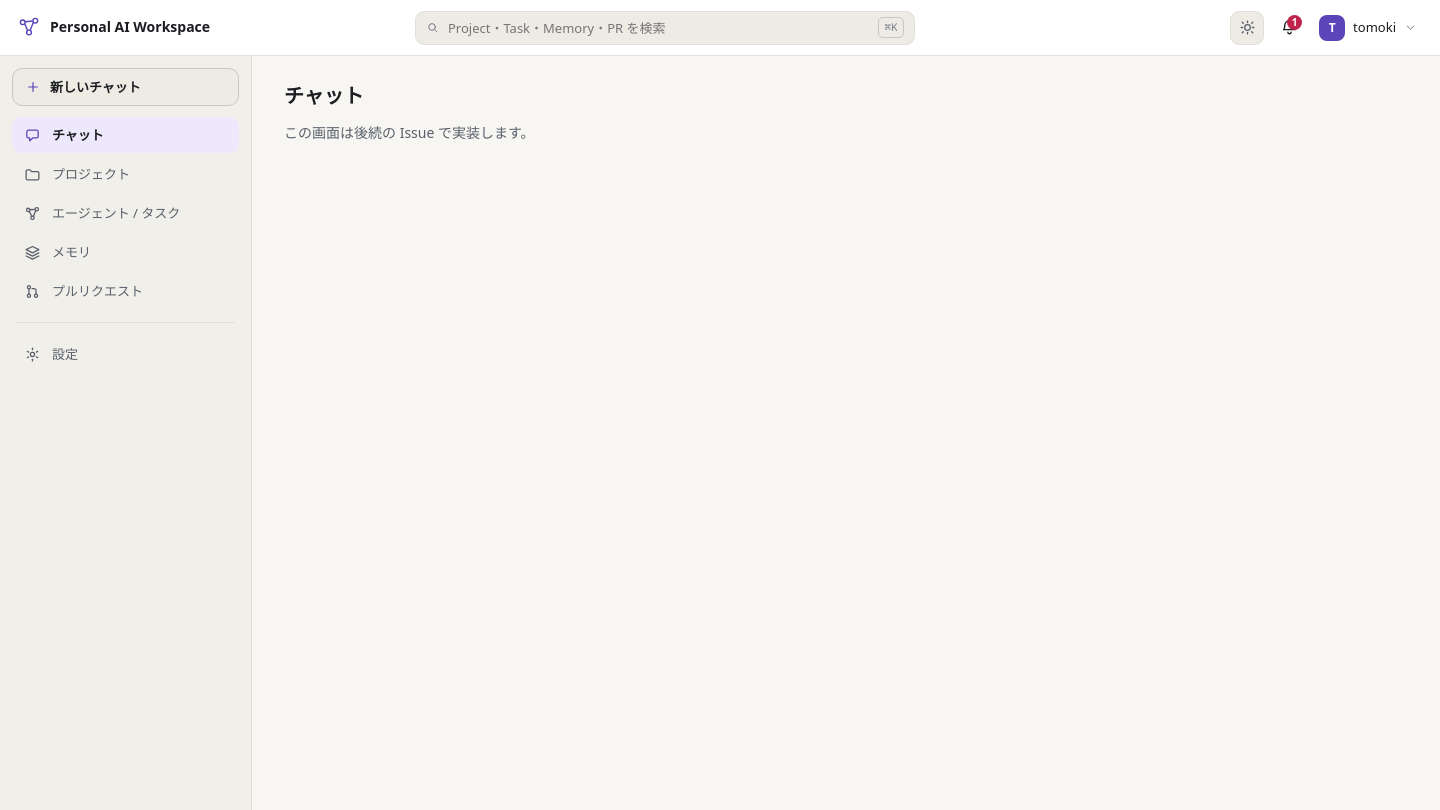
Scenario: pending device approvals as notifications › removes a notification resolved while the settings screen was open
Click the button named "通知 1 件未読" at (1289,28), box 1272,10 -> 1306,44
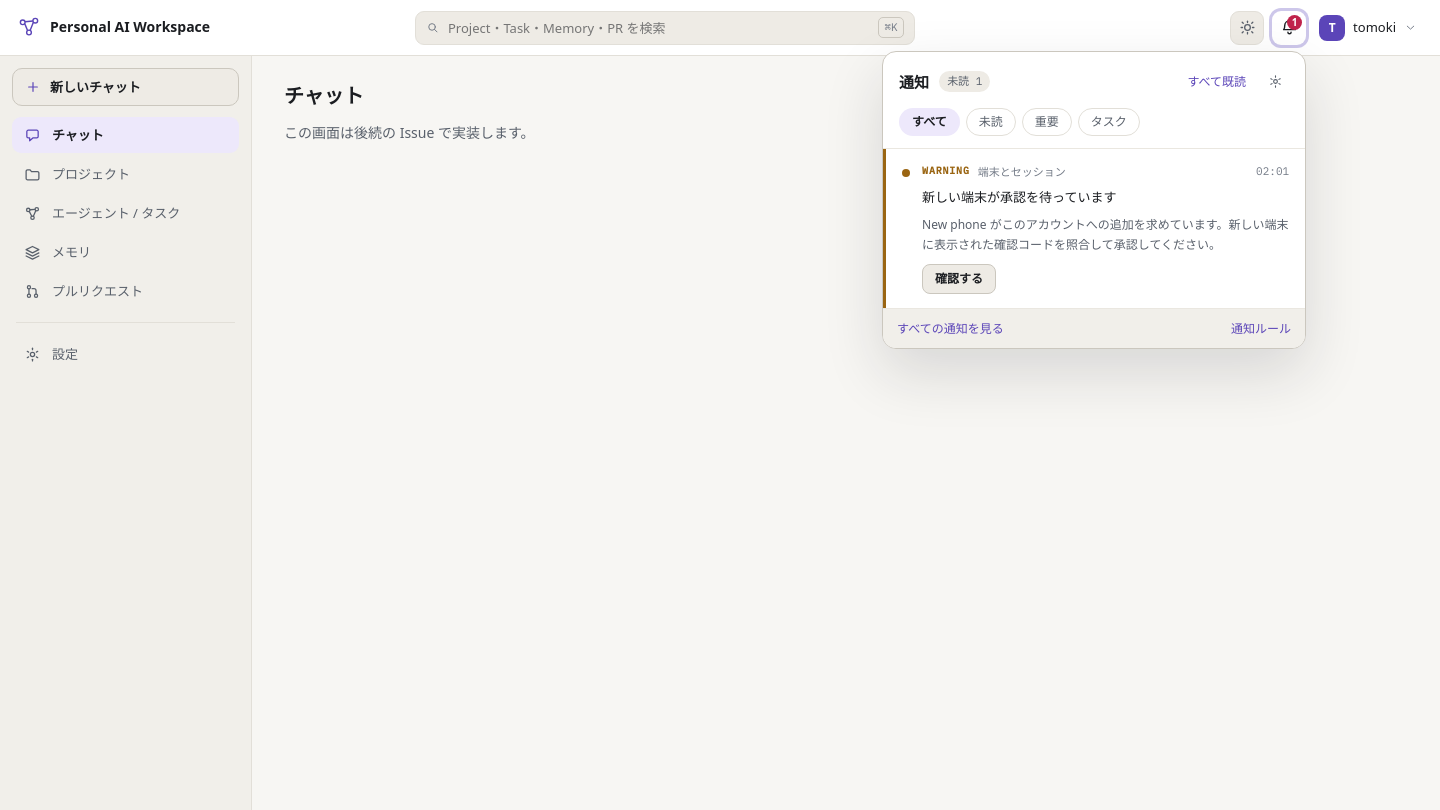
Click the link "確認する" at (959,279), box 922,264 -> 996,294
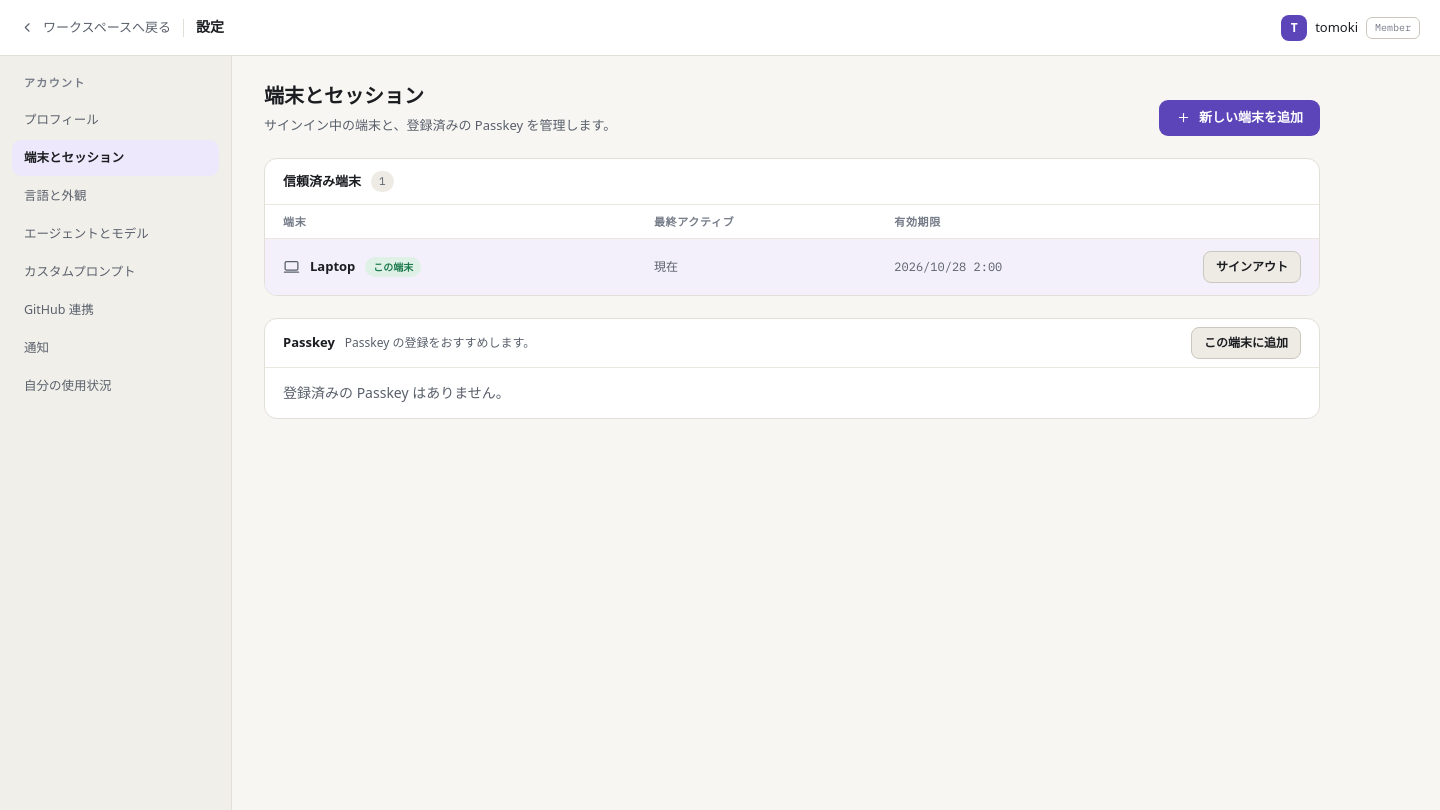
Note: 設定 is a screen of its own (no shell): the device is approved there.
Click the link "ワークスペースへ戻る" at (96,27), box 20,18 -> 171,36
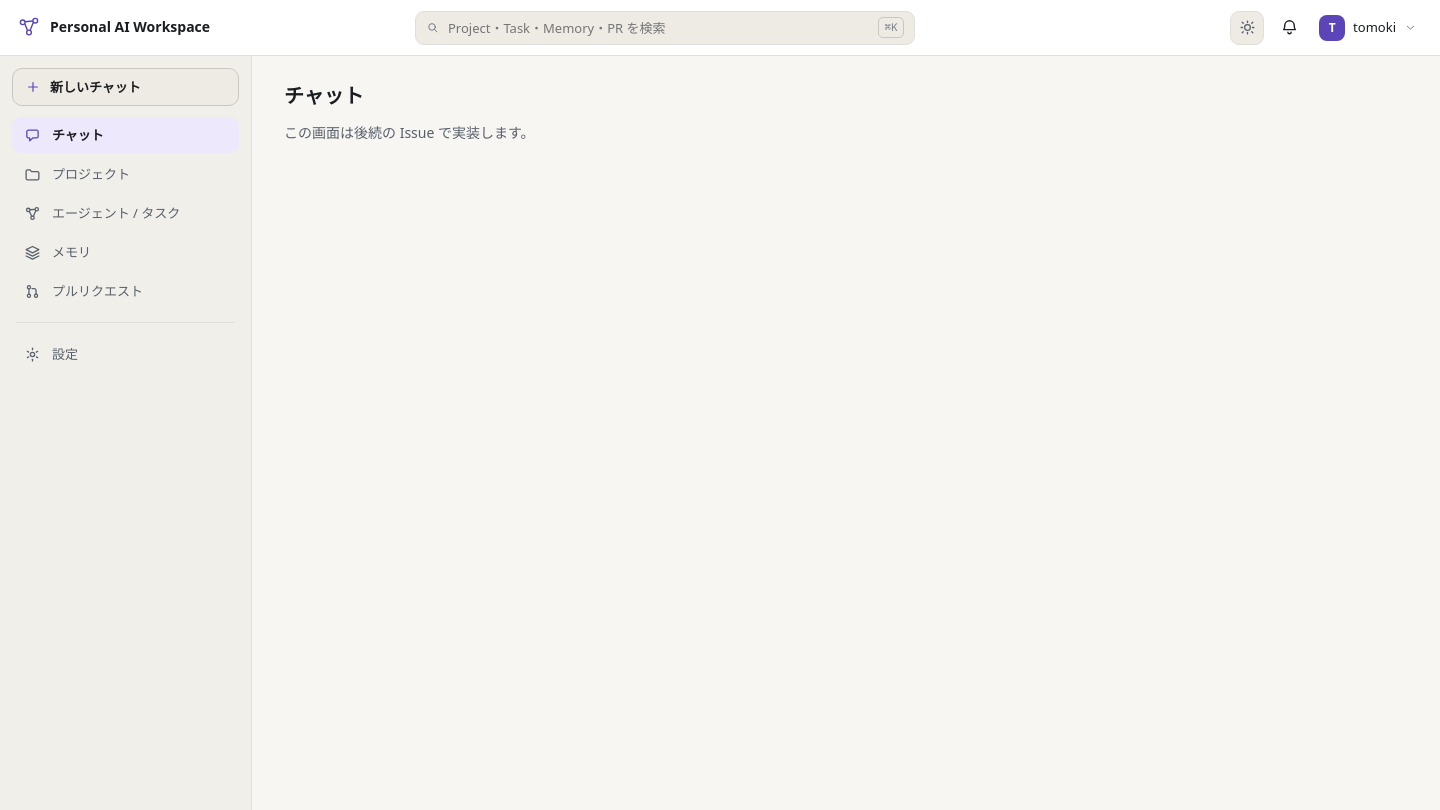
Click the button named "通知" at (1289,28), box 1272,10 -> 1306,44
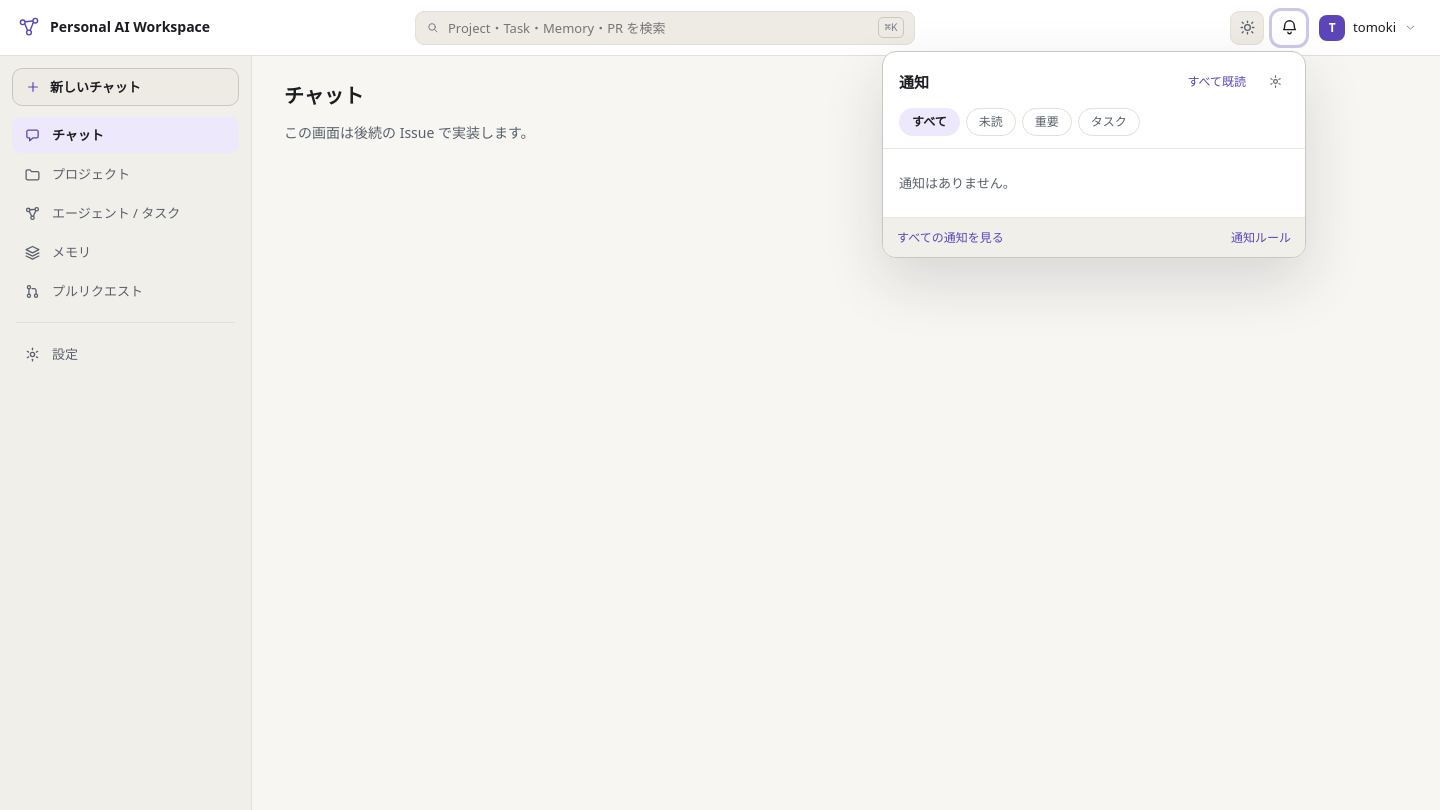
Expected: the text "通知はありません。" is shown, 899,174 -> 1016,192
